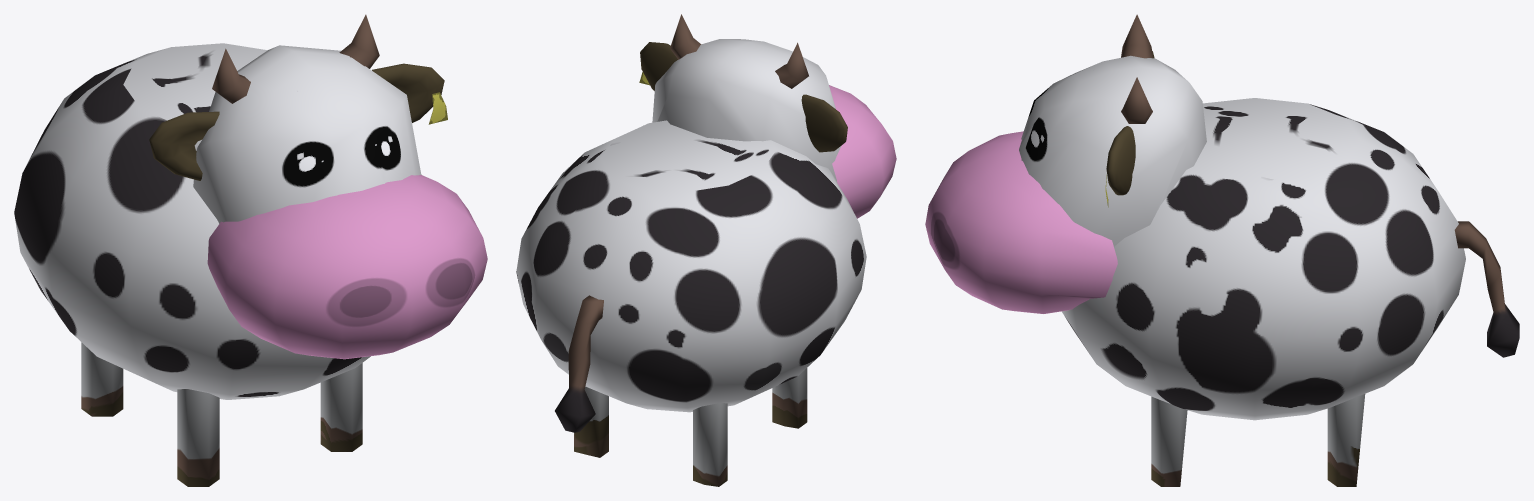
Rendered from MOOMOO.fbx.
The picture shows the model from 3 angles, left to right: view 1: azimuth 30°, elevation 25°; view 2: azimuth 150°, elevation 25°; view 3: azimuth 270°, elevation 25°; orthographic projection. The views are drawn at different scales.
Visible parts, largest first — view 1: MUUMOO; view 2: MUUMOO; view 3: MUUMOO.
Part boxes in pixels (x1=…): MUUMOO: x1=14, y1=14, x2=487, y2=486; MUUMOO: x1=516, y1=14, x2=896, y2=486; MUUMOO: x1=925, y1=14, x2=1519, y2=486.
Size of the model in its own units: 224 by 267 by 355.
